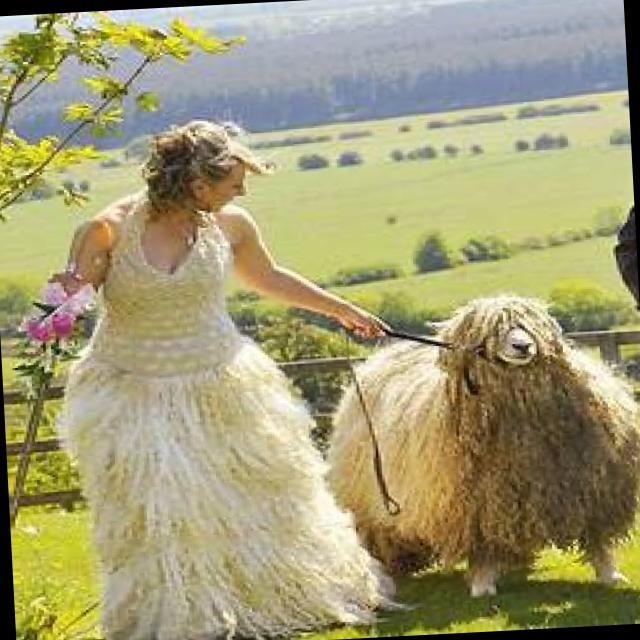sheep: (296, 272, 640, 632)
